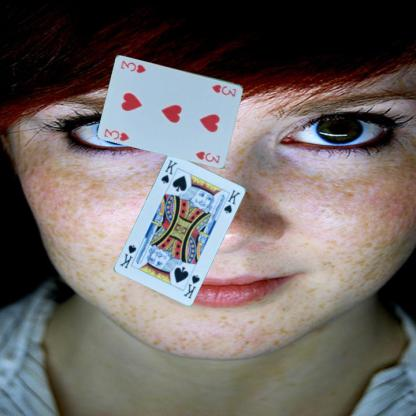3h: (210, 82, 237, 99), (102, 126, 130, 142)
Ks: (181, 272, 201, 300), (158, 157, 178, 184)
